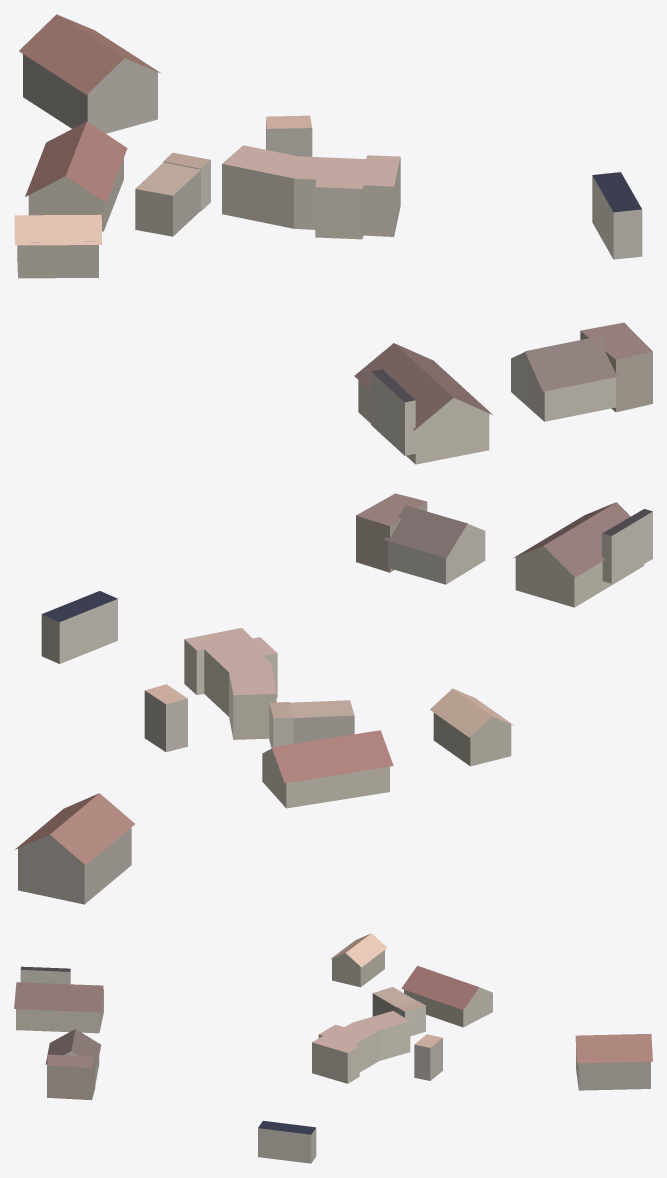
The picture shows the model from 3 angles, top to bottom: view 1: azimuth 30°, elevation 25°; view 2: azimuth 150°, elevation 25°; view 3: azimuth 270°, elevation 25°; orthographic projection. The views are drawn at different scales.
Parts seen in each view (by area): view 1: tuile; view 2: tuile; view 3: tuile.
Boxes of the visible parts, x1,y1,x2,y2 form: tuile: (14, 14, 652, 464); tuile: (15, 493, 652, 904); tuile: (14, 933, 652, 1163).
Bounding box in the file's own units: 71.77 × 12.53 × 114.
